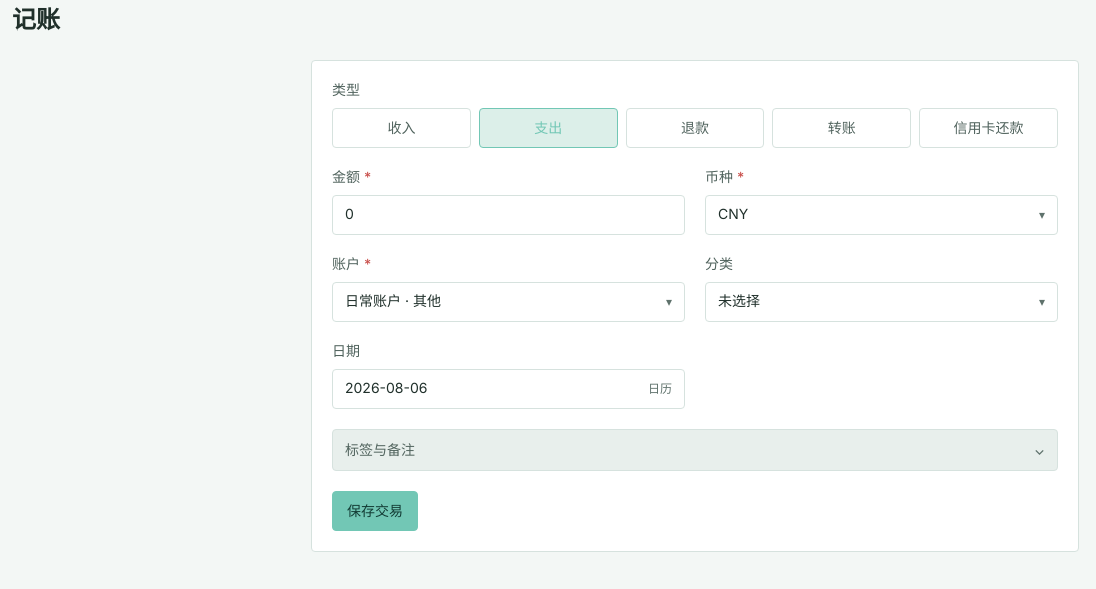
EntryView › shows manual field errors and focuses the first invalid field
The width and height of the screenshot is (1096, 589).
Click the button "保存交易". click: (375, 511)
box: [332,491,418,531]
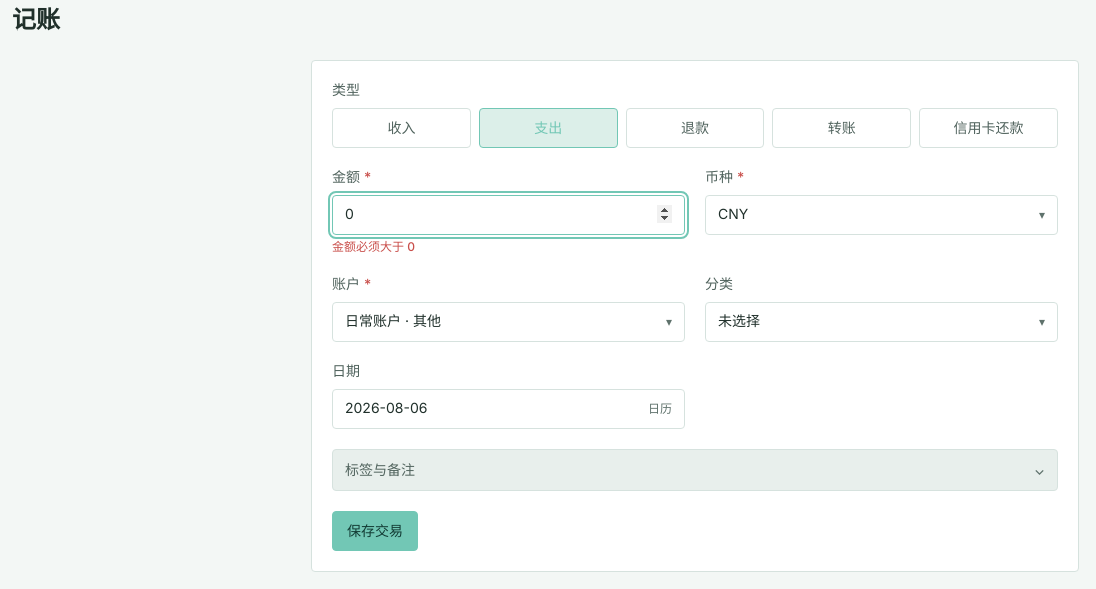
Expected: the text "金额必须大于 0" is shown, [332,239,415,254]
